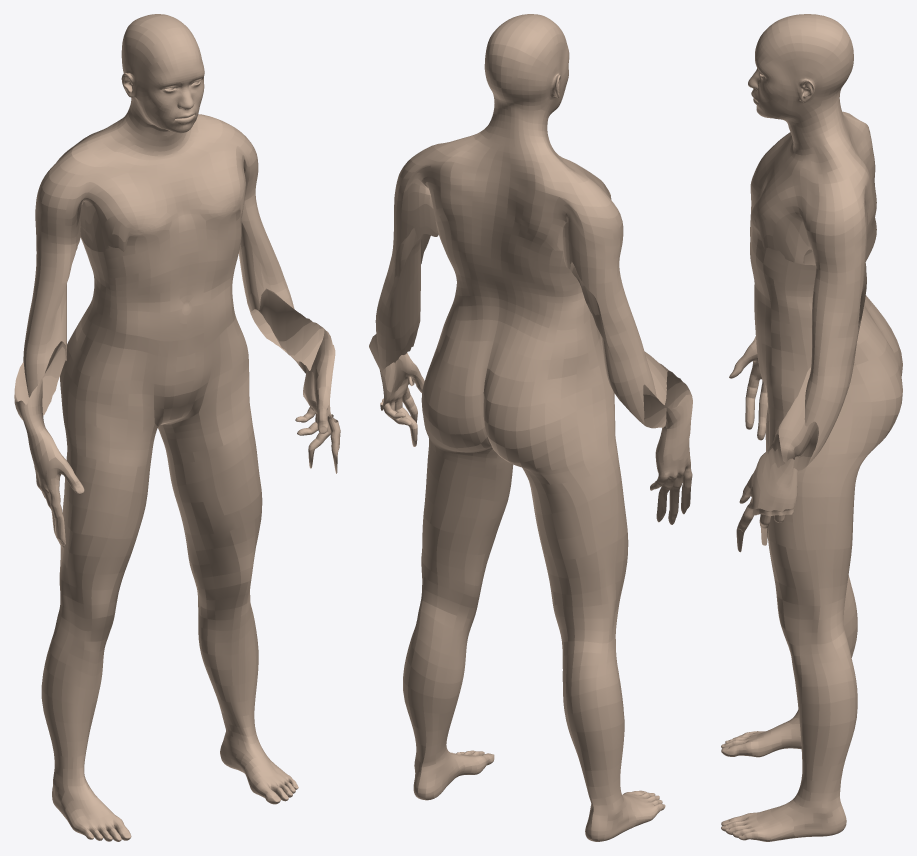
The model's file is human-male.glb.
The picture shows the model from 3 angles, left to right: view 1: azimuth 30°, elevation 25°; view 2: azimuth 150°, elevation 25°; view 3: azimuth 270°, elevation 25°; orthographic projection. The views are drawn at different scales.
Parts seen in each view (by area): view 1: male_baseMesh; view 2: male_baseMesh; view 3: male_baseMesh.
Part boxes in pixels (left/top/right/bottom): male_baseMesh: left=14, top=14, right=340, bottom=841; male_baseMesh: left=369, top=14, right=692, bottom=841; male_baseMesh: left=721, top=14, right=902, bottom=841.
Size of the model in its own units: 0.7242 by 1.74 by 0.3708.
